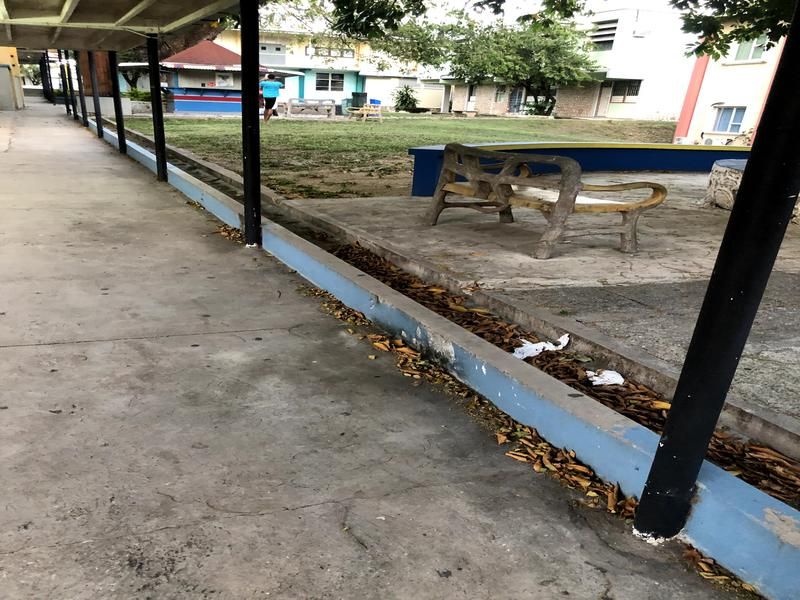18.0050864_-76.7496363_bench: (412, 116, 686, 274)
